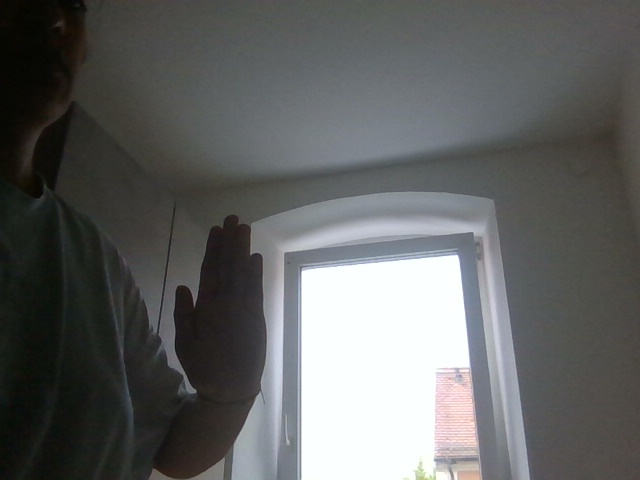Palm: (160, 210, 272, 411)
